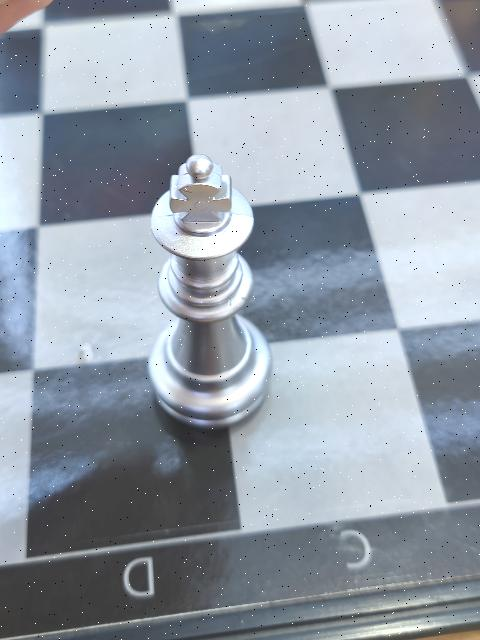white_king: (146, 155, 272, 427)
